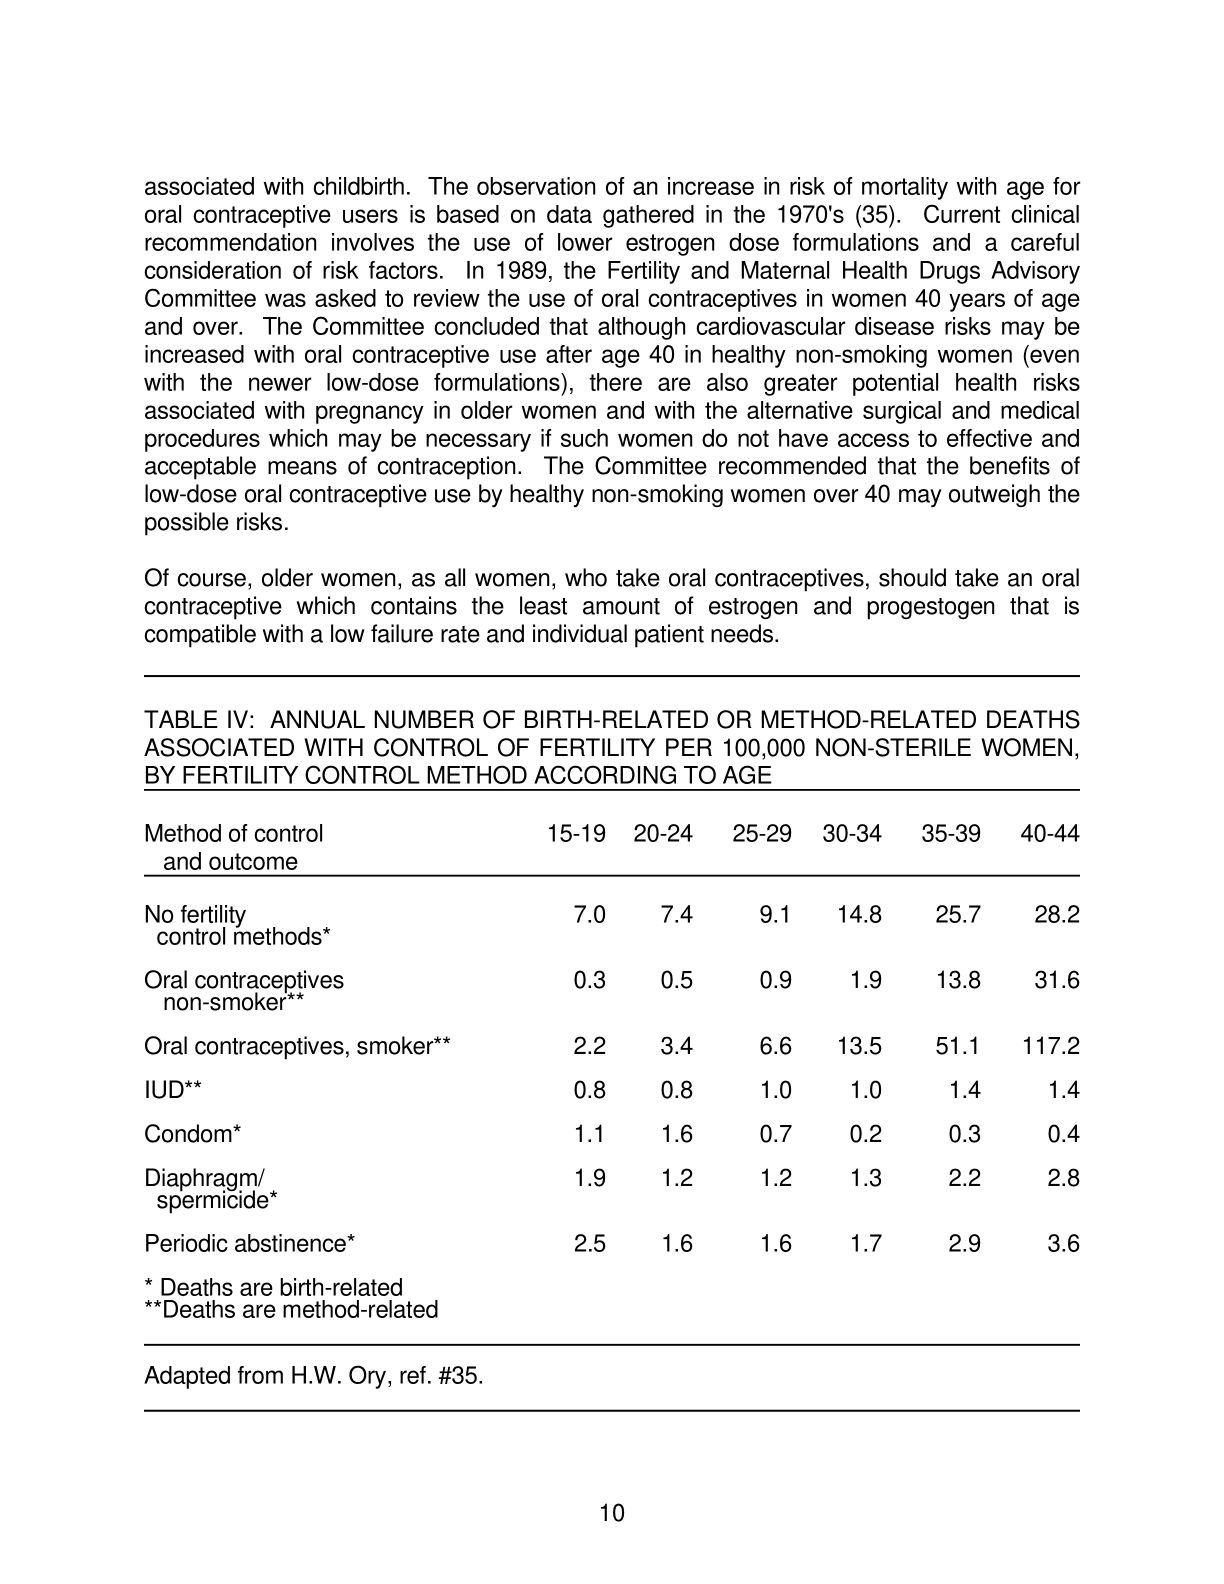partial_lined: (141, 787, 1081, 1347)
